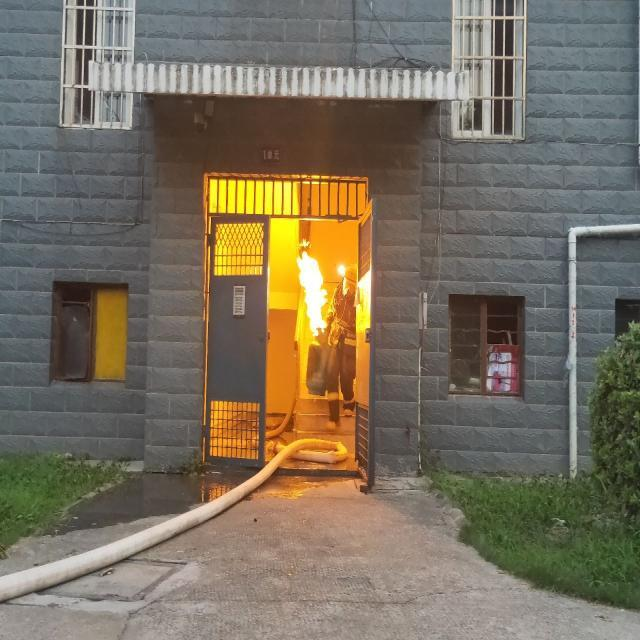Fire: (294, 248, 329, 342)
